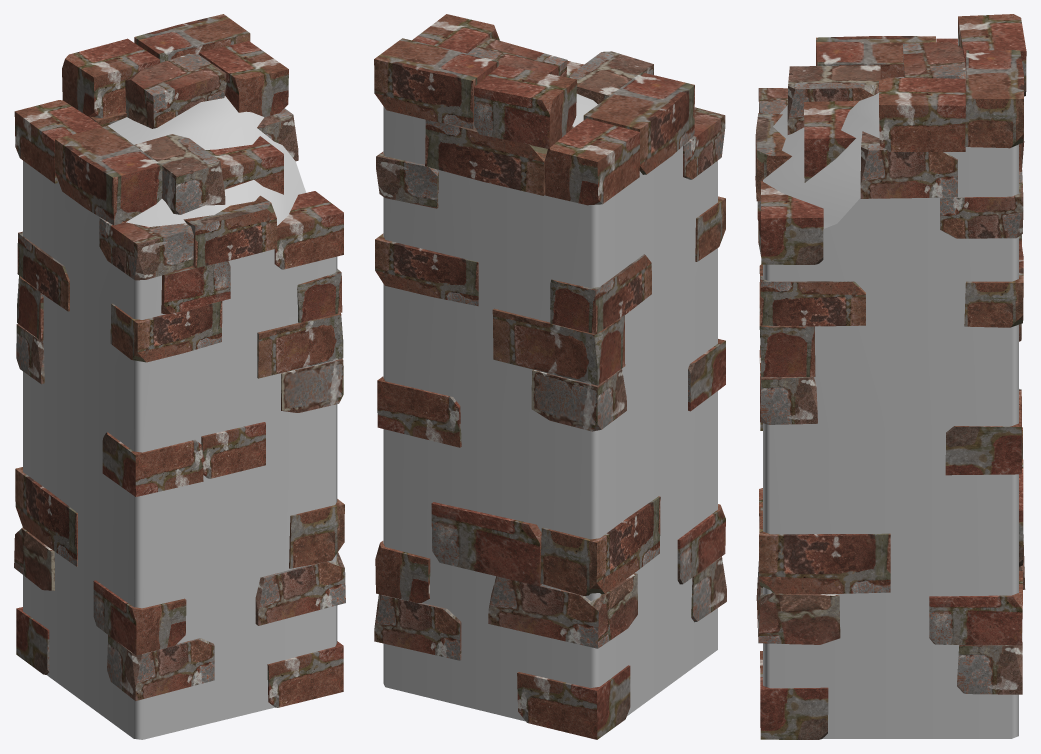
File: SM_Brick_Column_Ruined_02.fbx
3 renders of one model, left to right at view 1: azimuth 30°, elevation 25°; view 2: azimuth 150°, elevation 25°; view 3: azimuth 270°, elevation 25°, orthographic. The views are drawn at different scales.
Visible parts, largest first — view 1: SM_Brick_Column_Ruined_02_LOD0; view 2: SM_Brick_Column_Ruined_02_LOD0; view 3: SM_Brick_Column_Ruined_02_LOD0.
Part boxes in pixels (x1,y1,x2,y2): SM_Brick_Column_Ruined_02_LOD0: (14, 14, 345, 739); SM_Brick_Column_Ruined_02_LOD0: (374, 14, 726, 739); SM_Brick_Column_Ruined_02_LOD0: (755, 14, 1026, 739).
Size of what is drawn, in the model's own units: 156 by 418 by 160.
